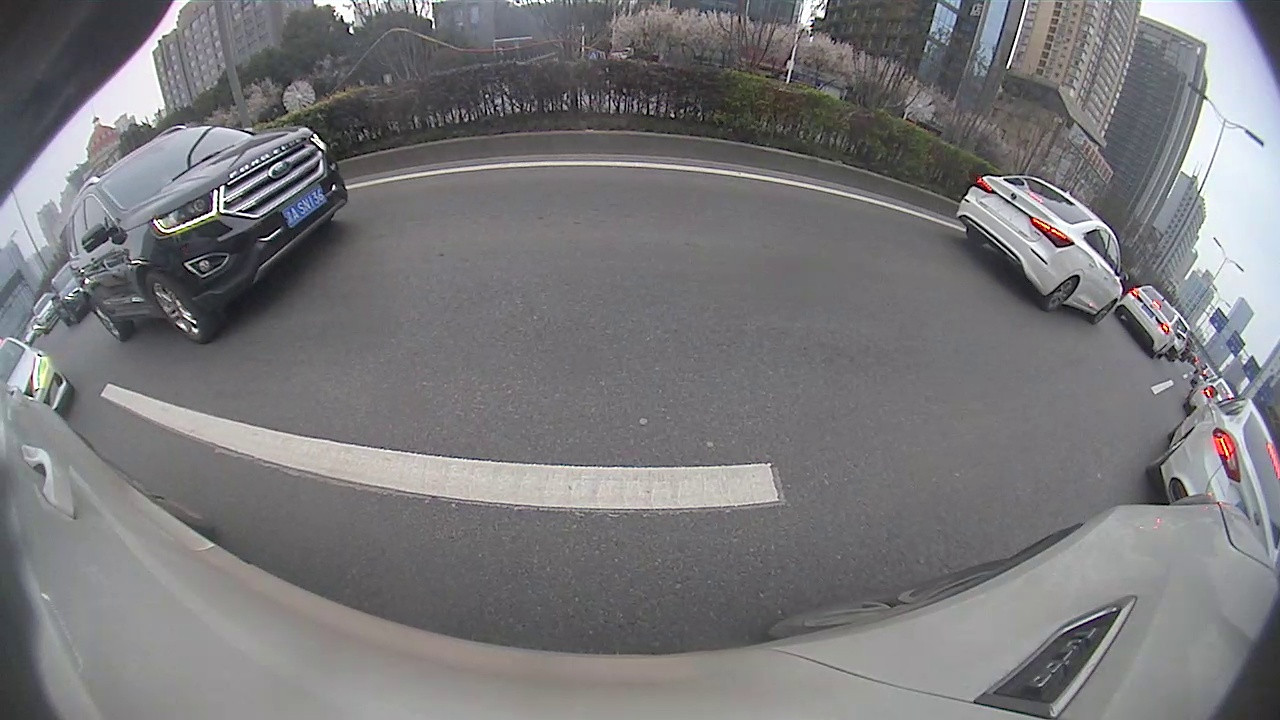car: (126, 207, 367, 343), (21, 403, 60, 440), (353, 206, 402, 233), (545, 161, 581, 188)
front: (339, 227, 362, 261)
rear: (211, 274, 253, 327)
